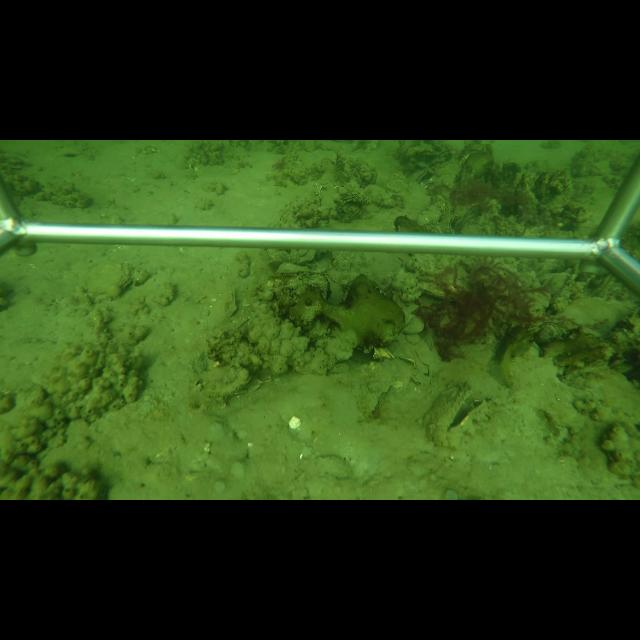Oyster-Closed: (83, 257, 133, 301), (195, 364, 250, 399), (455, 149, 493, 185), (417, 278, 448, 300), (349, 164, 362, 188)
Oyster-Open: (437, 384, 492, 436)
